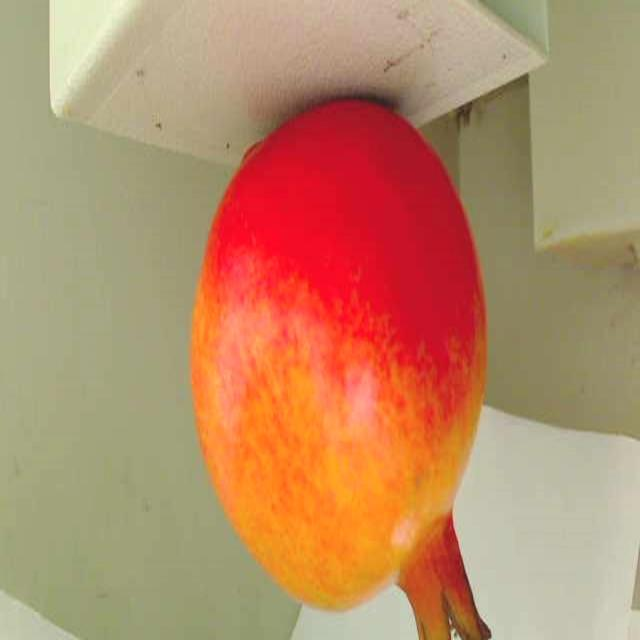pomegranate: (183, 83, 511, 640)
